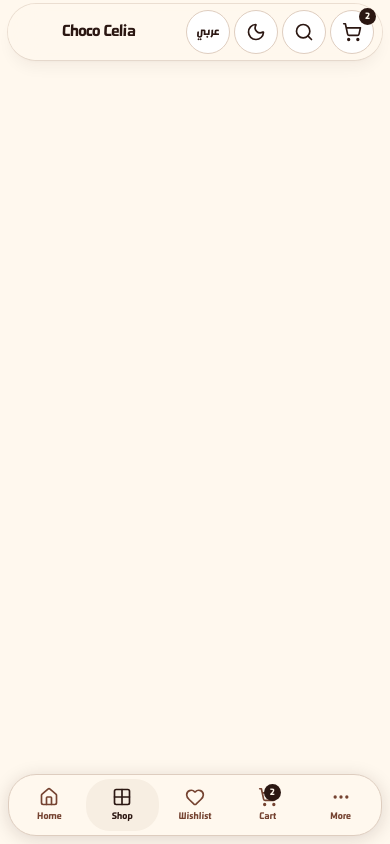
Test: mobile header switches from en on the current route and closes More
Expected: the navigation bar named "التبديل إلى العربية" is shown, [8,4,382,60]
Expected: the button with aria-label "التبديل إلى العربية" reads "عربي", [186,10,230,54]
Step 1. Click the button "More" → (341, 805), box [304,779,377,831]
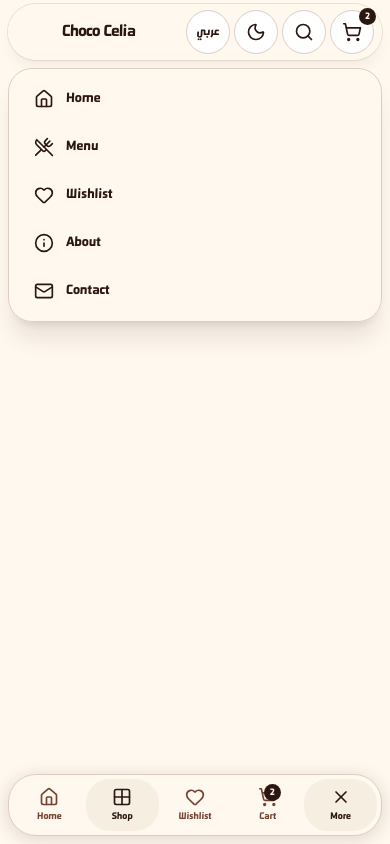
Expected: the button "More" is expanded, [304,779,377,831]
Step 2. Click the button with aria-label "التبديل إلى العربية" → (208, 32), box [186,10,230,54]
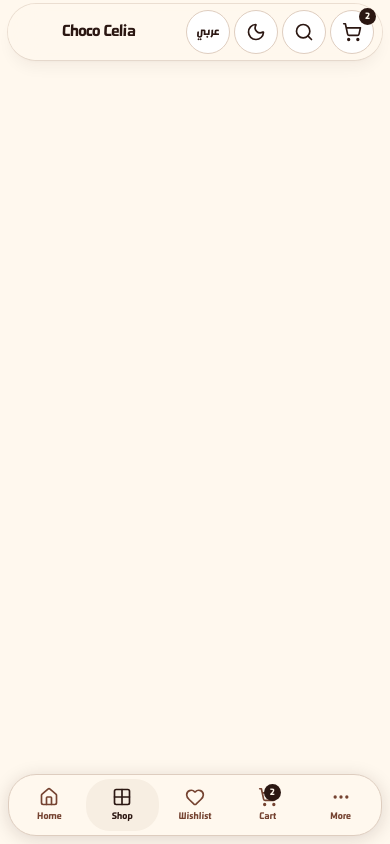
Expected: the button "More" is collapsed, [304,779,377,831]
